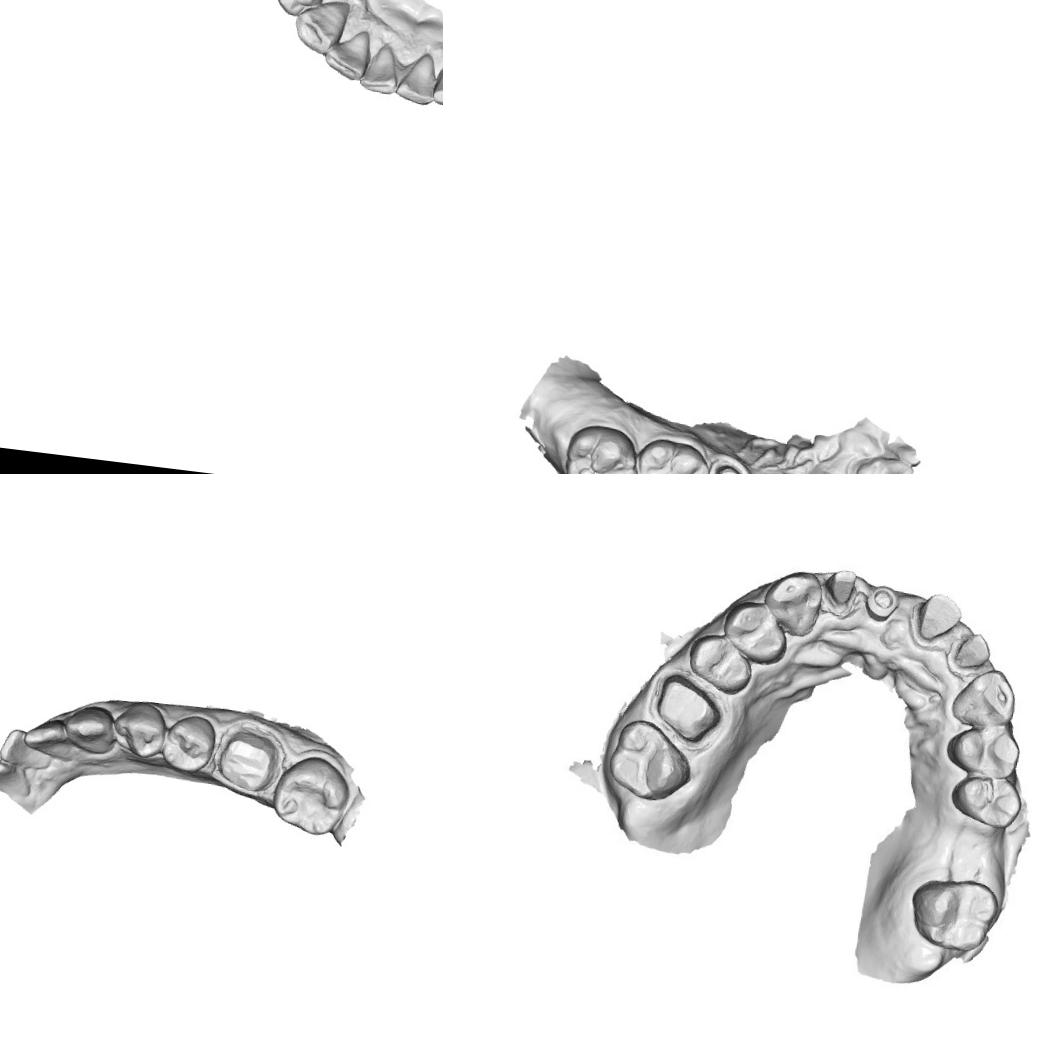canine: (944, 664, 1023, 735), (289, 0, 351, 59), (60, 701, 122, 758), (769, 571, 822, 636)
crown: (212, 721, 288, 797), (655, 676, 720, 741), (915, 594, 962, 644), (950, 629, 990, 677), (825, 568, 859, 608), (705, 454, 758, 474)
implant: (865, 583, 900, 630)
incisor: (321, 24, 374, 85), (390, 47, 442, 108), (20, 714, 79, 763), (0, 725, 55, 773), (356, 40, 402, 96), (844, 453, 915, 474), (431, 51, 443, 110)
molar: (600, 716, 700, 810), (903, 872, 1002, 959), (268, 750, 354, 841), (556, 417, 649, 474), (624, 433, 719, 474)
premolar: (944, 718, 1023, 784), (946, 771, 1024, 833), (159, 710, 224, 776), (108, 698, 173, 763), (688, 630, 754, 691), (725, 605, 786, 662), (269, 0, 328, 20)
